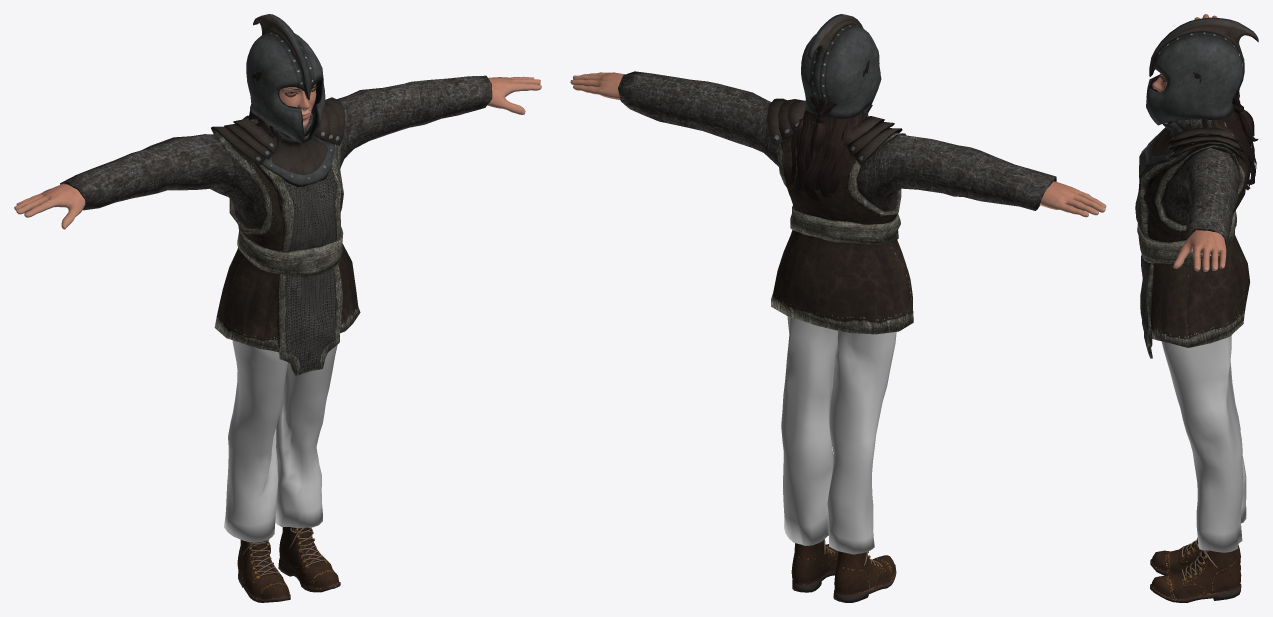
File: F_No_Arm.obj
The picture shows the model from 3 angles, left to right: view 1: azimuth 30°, elevation 25°; view 2: azimuth 150°, elevation 25°; view 3: azimuth 270°, elevation 25°; orthographic projection.
Visible parts, largest first — view 1: Tops, Bottoms, Hats, Shoes, Body; view 2: Tops, Bottoms, Hats, Hair, Shoes, Body; view 3: Tops, Bottoms, Hats, Shoes, Body, Hair.
Boxes of the visible parts, <box> form: Tops: <box>60,75,492,375</box>; Bottoms: <box>224,340,337,542</box>; Hats: <box>246,14,325,143</box>; Shoes: <box>237,527,340,602</box>; Body: <box>14,76,541,229</box>; Tops: <box>618,71,1056,334</box>; Bottoms: <box>781,316,896,554</box>; Hats: <box>801,14,881,119</box>; Hair: <box>789,58,871,201</box>; Shoes: <box>791,539,896,602</box>; Body: <box>570,72,1106,217</box>; Tops: <box>1135,92,1249,358</box>; Bottoms: <box>1161,335,1246,552</box>; Hats: <box>1146,17,1258,125</box>; Shoes: <box>1150,537,1241,602</box>; Body: <box>1152,14,1226,271</box>; Hair: <box>1193,72,1258,190</box>.
Bounding box in the file's own units: 177 × 181 × 35.88.
